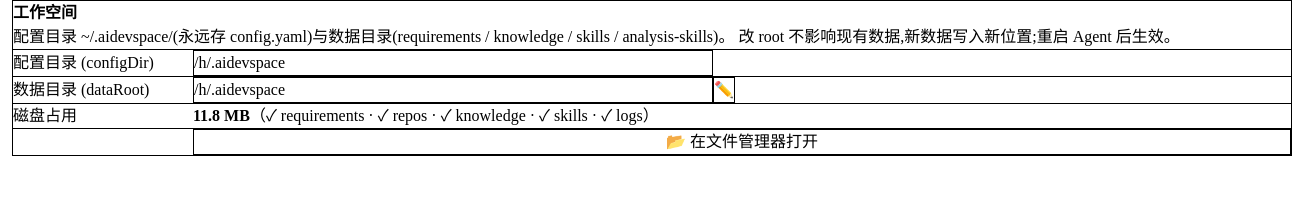
Test: WorkspaceSection 行内编辑 v2 (ADR-0037 D5) › case 9: 点保存(合法)→ PATCH + 切 saved + banner 出现
Click the button with test id "edit-workspace-root" at [724, 90], box [713,77,735,103]
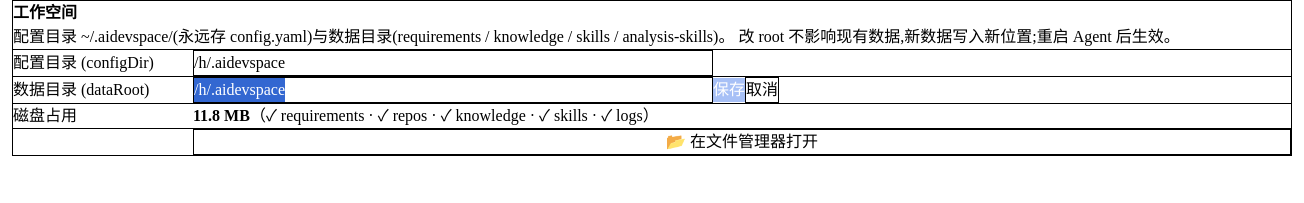
Replace the text in the field with test id "workspace-root" with "/new/valid/ws" at [453, 90], box [193,77,713,103]
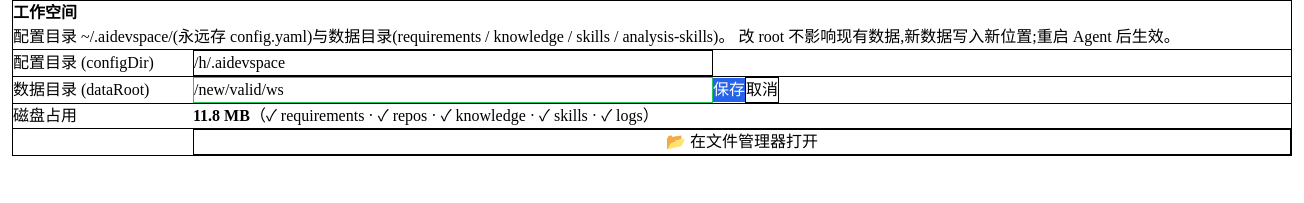
Click the button with test id "save-workspace-root" at [729, 90], box [713,78,745,102]
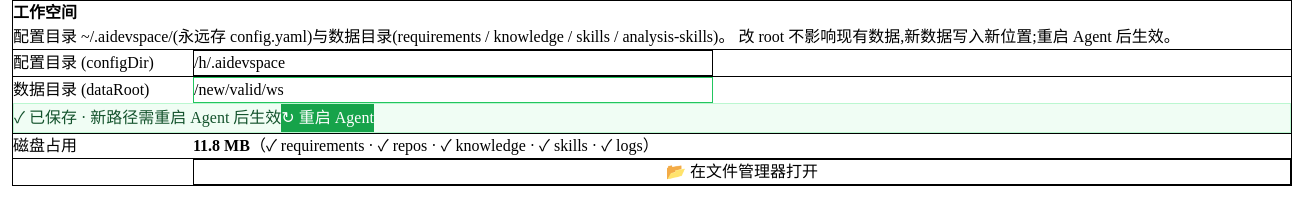
Expected: the element with test id "saved-banner" is shown, [13,103,1291,133]
